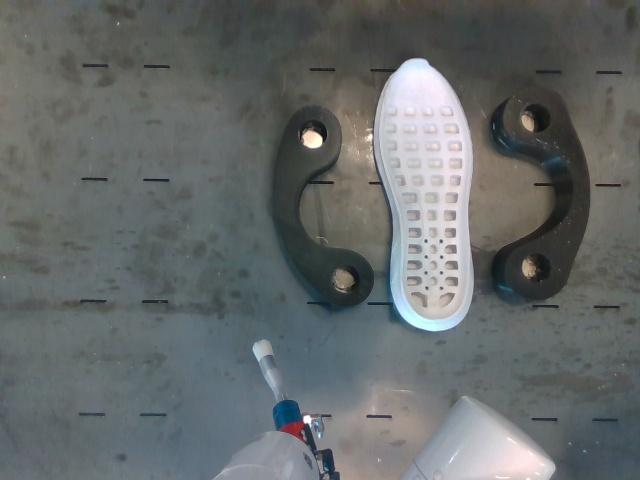shoes: (381, 59, 472, 320)
